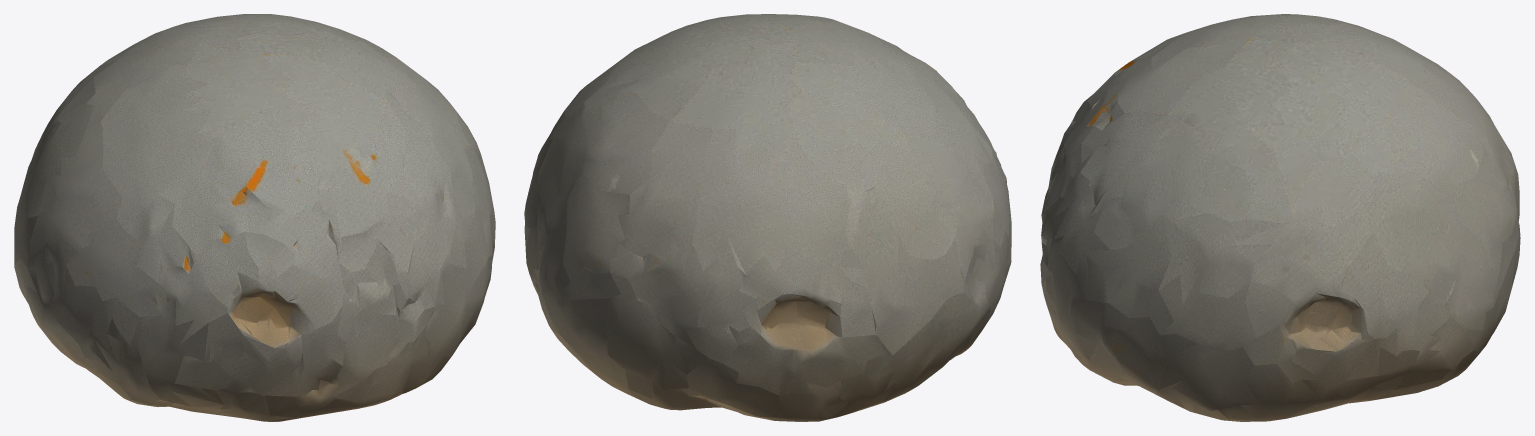
Rendered from Boulder_Granite.glb.
The picture shows the model from 3 angles, left to right: view 1: azimuth 30°, elevation 25°; view 2: azimuth 150°, elevation 25°; view 3: azimuth 270°, elevation 25°; orthographic projection.
Size of the model in its own units: 1.9 by 1.29 by 1.85.
1 material, 1 textured.
